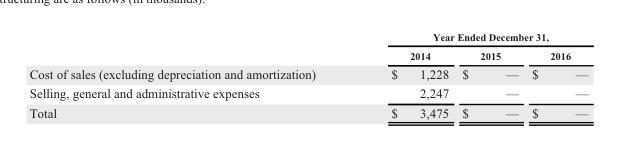table: (28, 29, 587, 120)
table column: (28, 29, 352, 120), (352, 29, 454, 120), (454, 29, 524, 120), (524, 29, 587, 120)
table column header: (28, 29, 587, 63)
table row: (28, 63, 587, 83), (28, 83, 587, 102), (28, 45, 587, 63), (28, 102, 587, 120), (28, 29, 587, 45)
table spanning cell: (352, 29, 587, 45)
